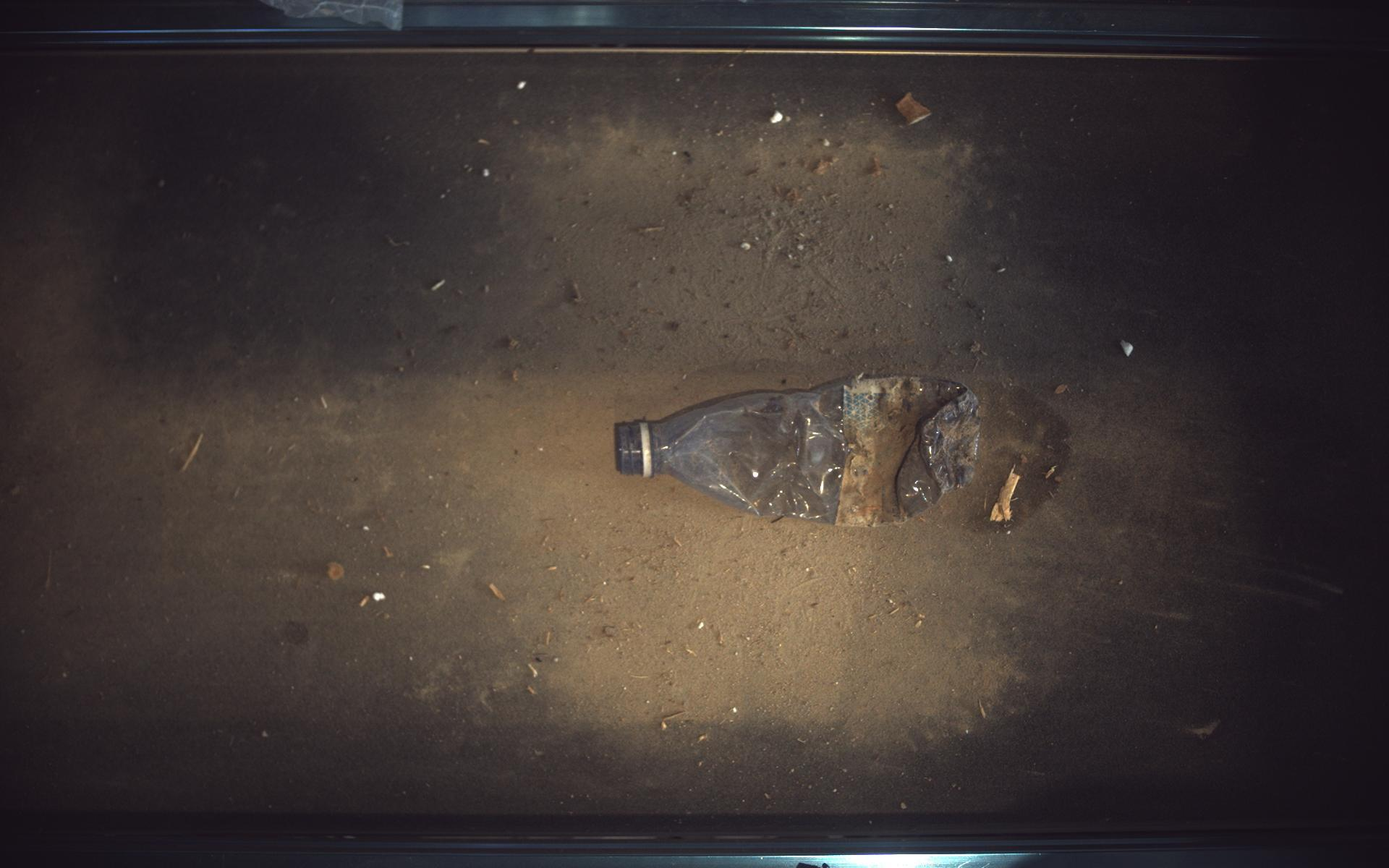general_w: (616, 376, 982, 527)
